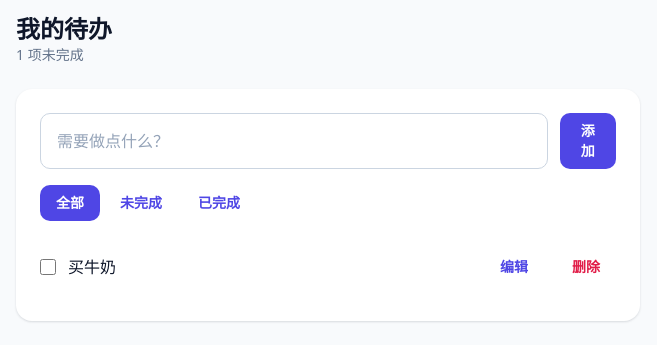
Test case: 待办管理交互 (todo-management, 第 7 组) › edits a title inline and shows the new title (7.7)
Expected: the text "买牛奶" is shown, [68,256,116,278]
Click the button "编辑" at point(514, 267), box [484,249,544,285]
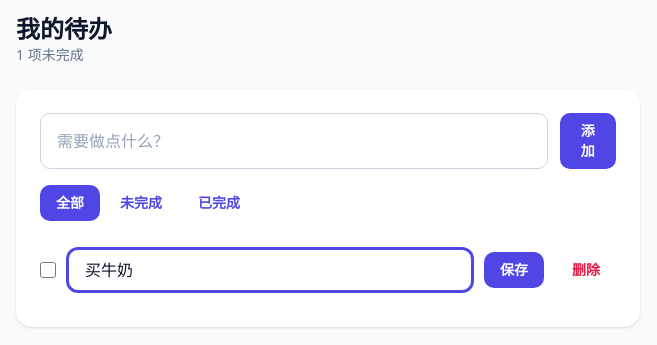
Replace the text in the field named "编辑标题" with "买牛奶和面包" at point(270, 270), box [68,249,472,291]
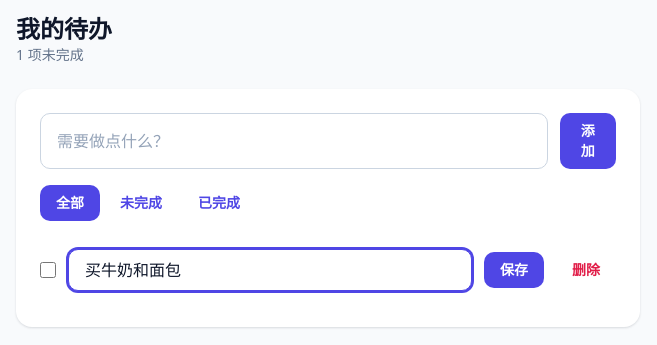
Click the button "保存" at point(514, 270), box [484,252,544,288]
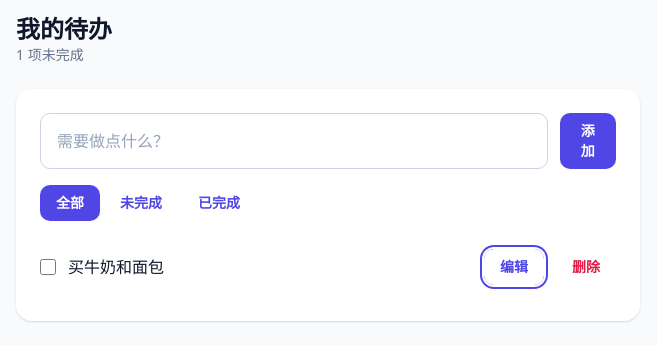
Now the text "买牛奶和面包" is shown, box [68,256,164,278]
